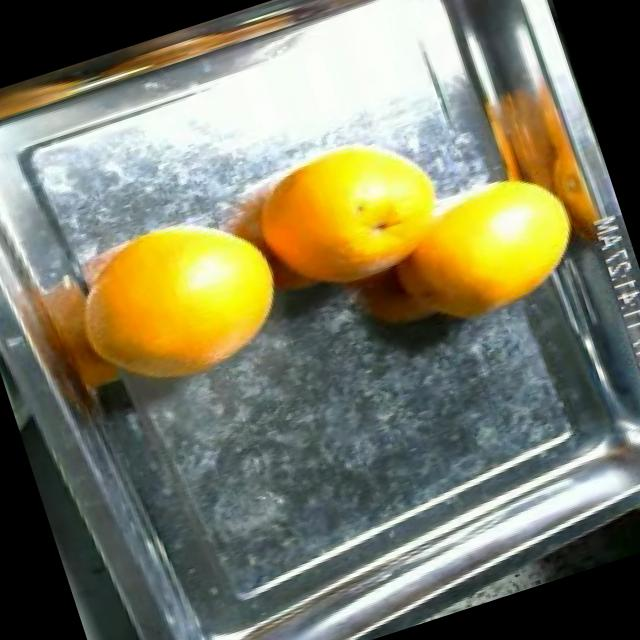Fruit: (224, 102, 488, 336), (64, 177, 312, 414), (389, 147, 607, 346)
